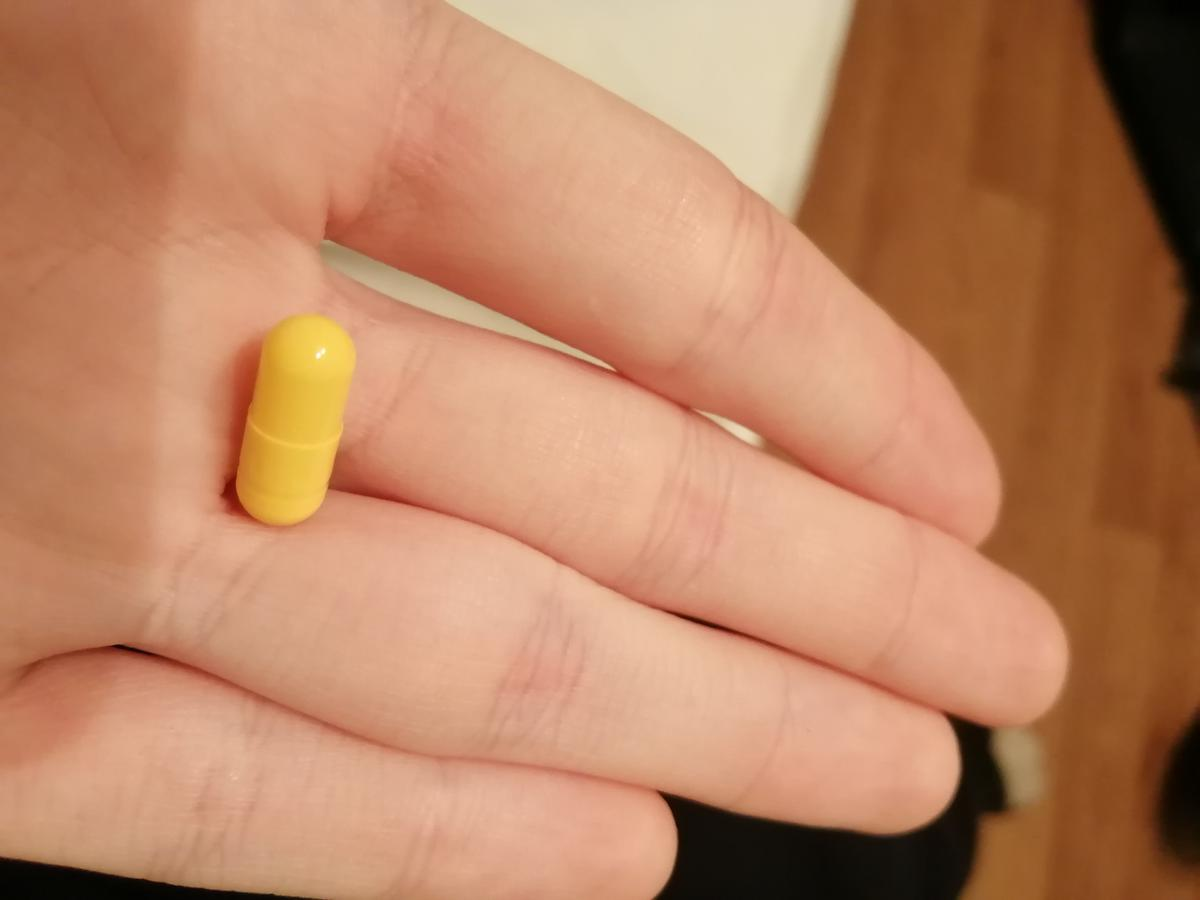capsule: (229, 301, 355, 528)
